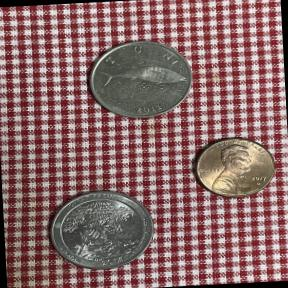coin: (79, 32, 202, 128), (42, 184, 160, 276), (186, 132, 280, 204)
